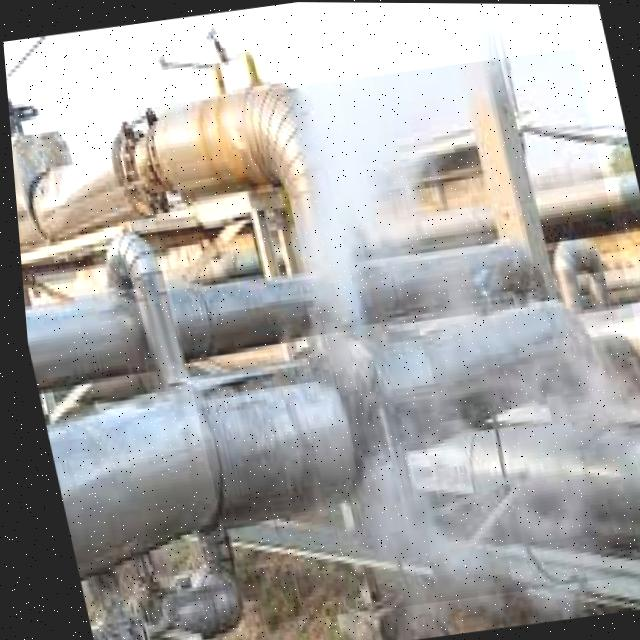corrosion: (249, 208, 584, 517)
